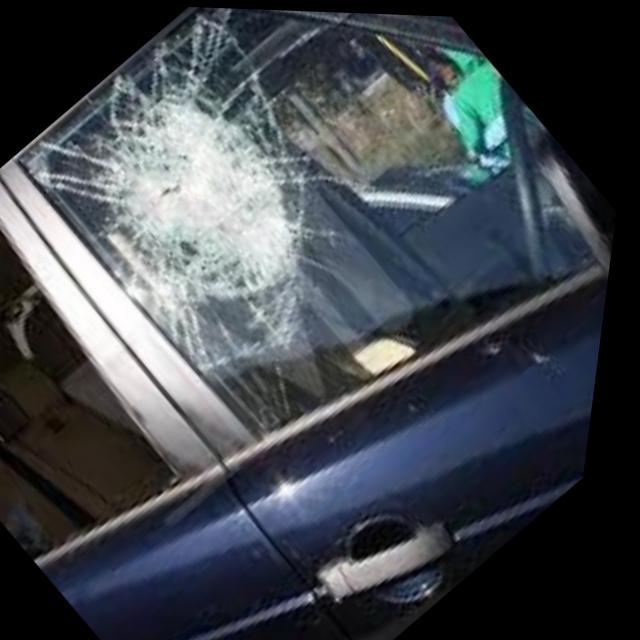glass shatter: (39, 6, 340, 389)
